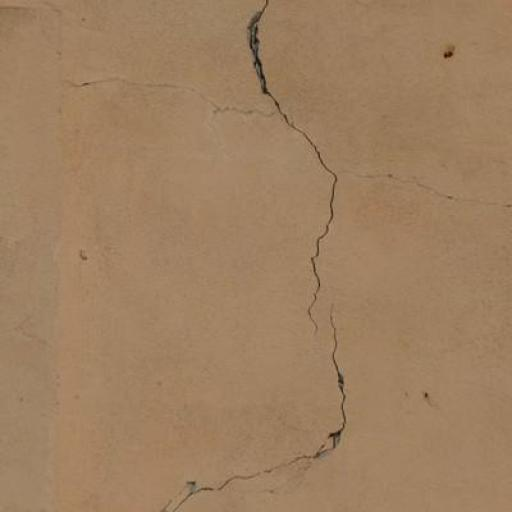spalling: (167, 318, 354, 510), (239, 3, 346, 323)
